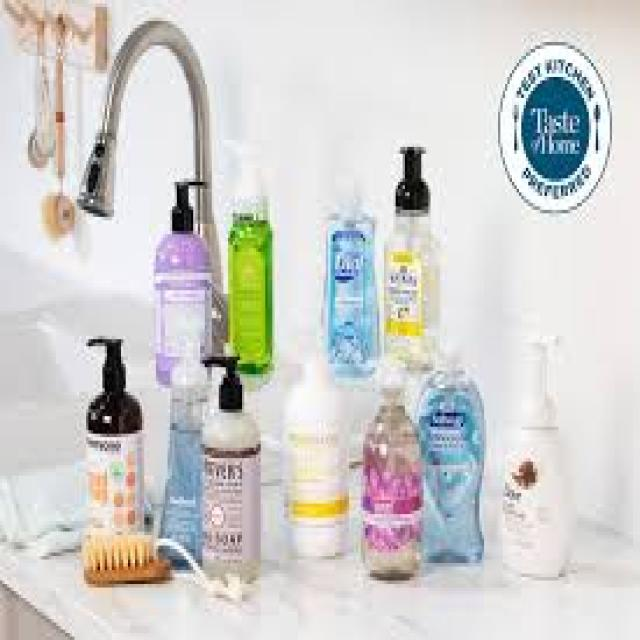liquid soap: (276, 342, 354, 575), (82, 332, 152, 585), (416, 347, 486, 577), (507, 332, 570, 582), (218, 135, 279, 377), (314, 160, 382, 377), (360, 362, 426, 582), (379, 142, 441, 375), (206, 347, 263, 577), (150, 188, 212, 392), (158, 364, 209, 560)
